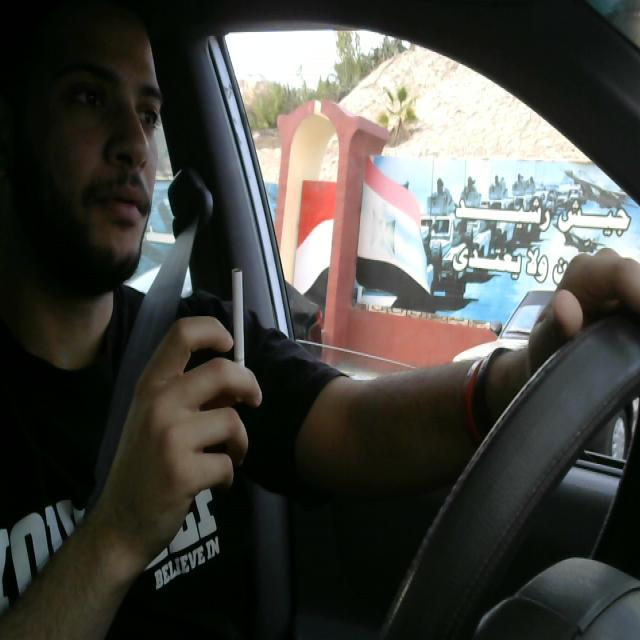smoking: (216, 258, 254, 398)
